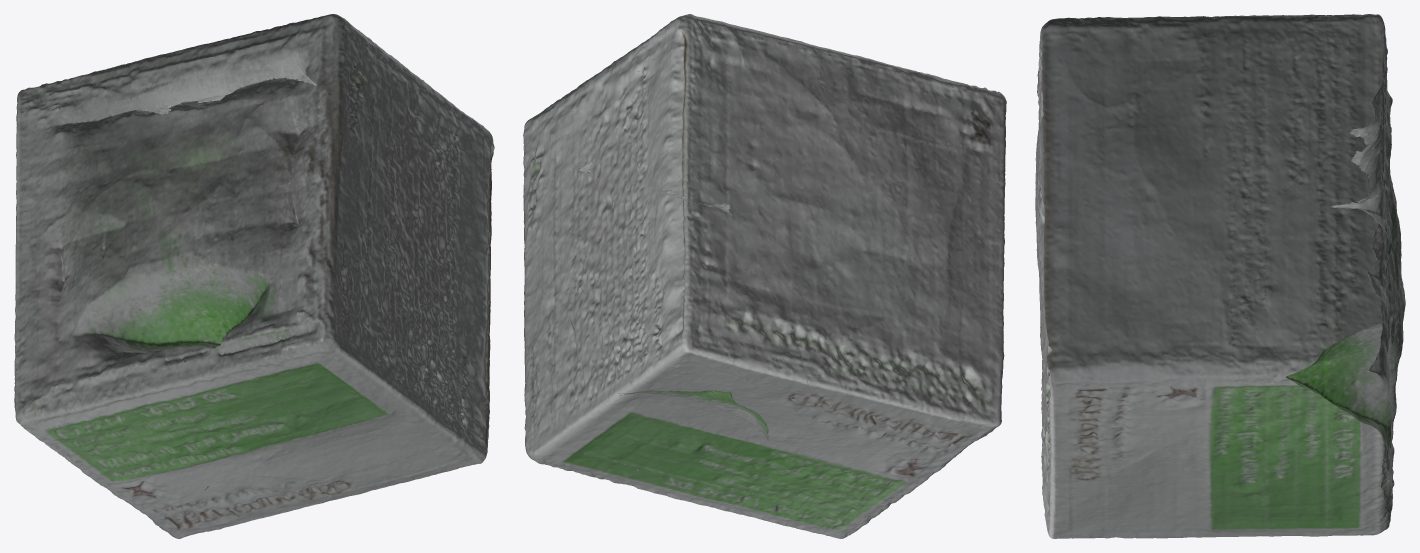
Rendered from cream.glb.
3 renders of one model, left to right at view 1: azimuth 30°, elevation 25°; view 2: azimuth 150°, elevation 25°; view 3: azimuth 270°, elevation 25°, orthographic. The views are drawn at different scales.
Size of the model in its own units: 1 by 0.9971 by 0.8834.
